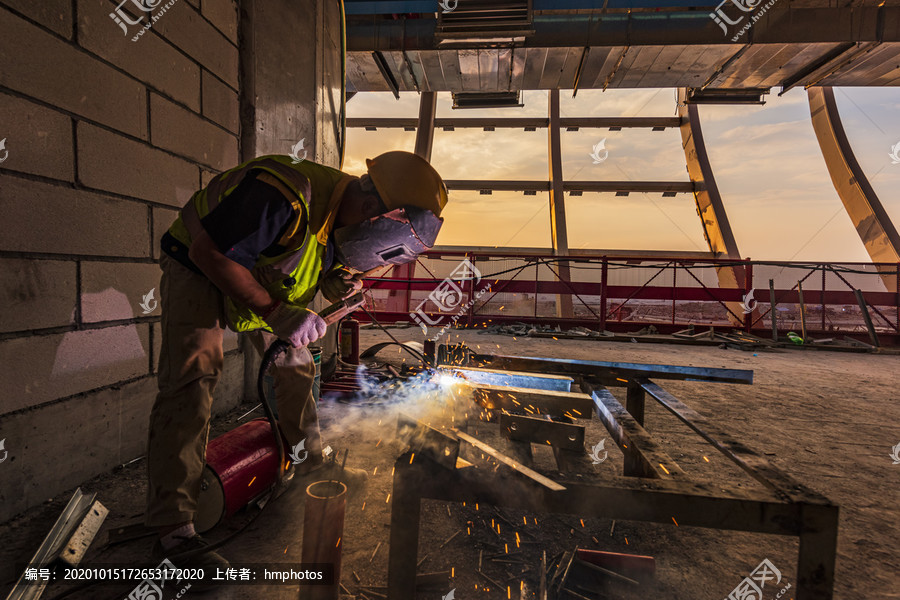safetyhat: (136, 122, 456, 531)
